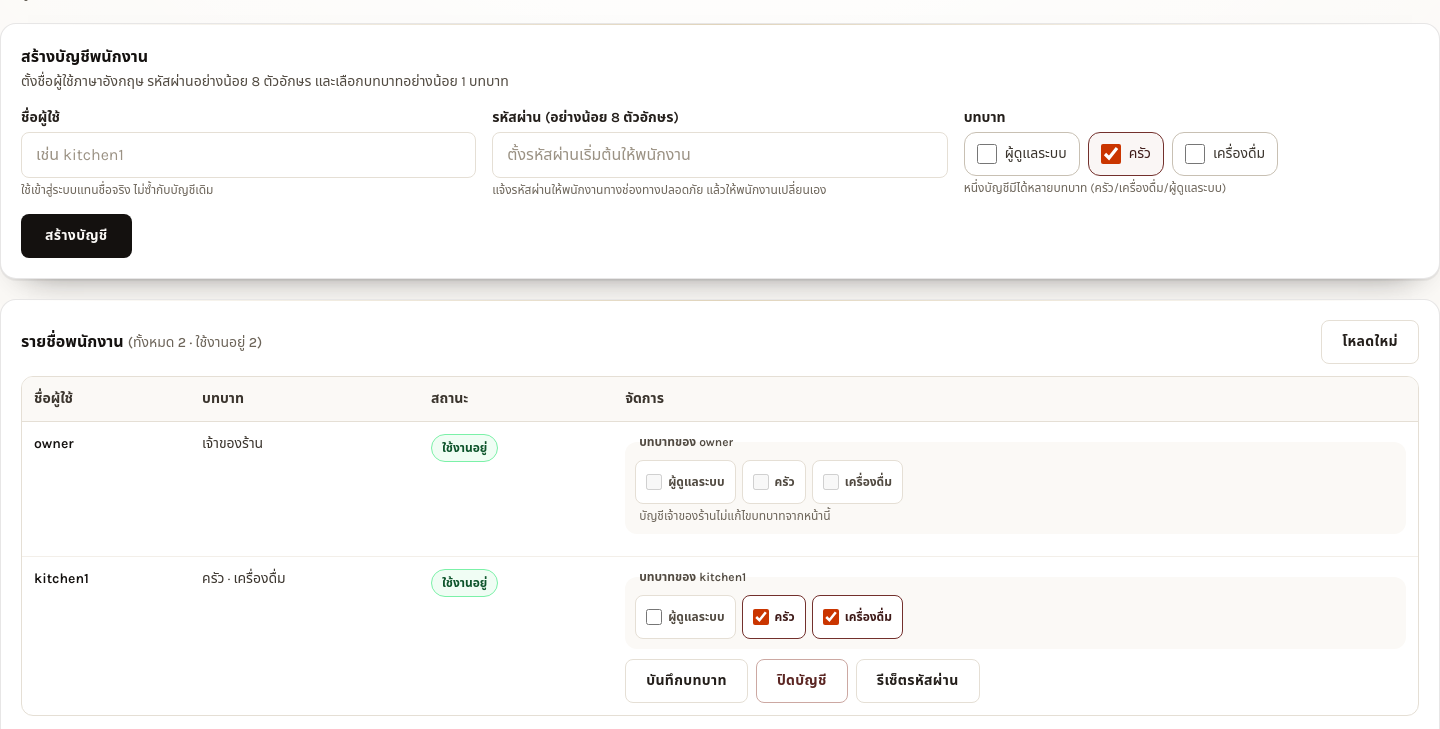
Test: หน้าจัดการพนักงาน › กดรีเซ็ตรหัสผ่านแล้วเห็นชื่อบัญชีเป้าหมายและคำเตือนเซสชัน
The image size is (1440, 729).
Click the button "รีเซ็ตรหัสผ่าน": (918, 681) 856,659 -> 980,703
(page scrolled)
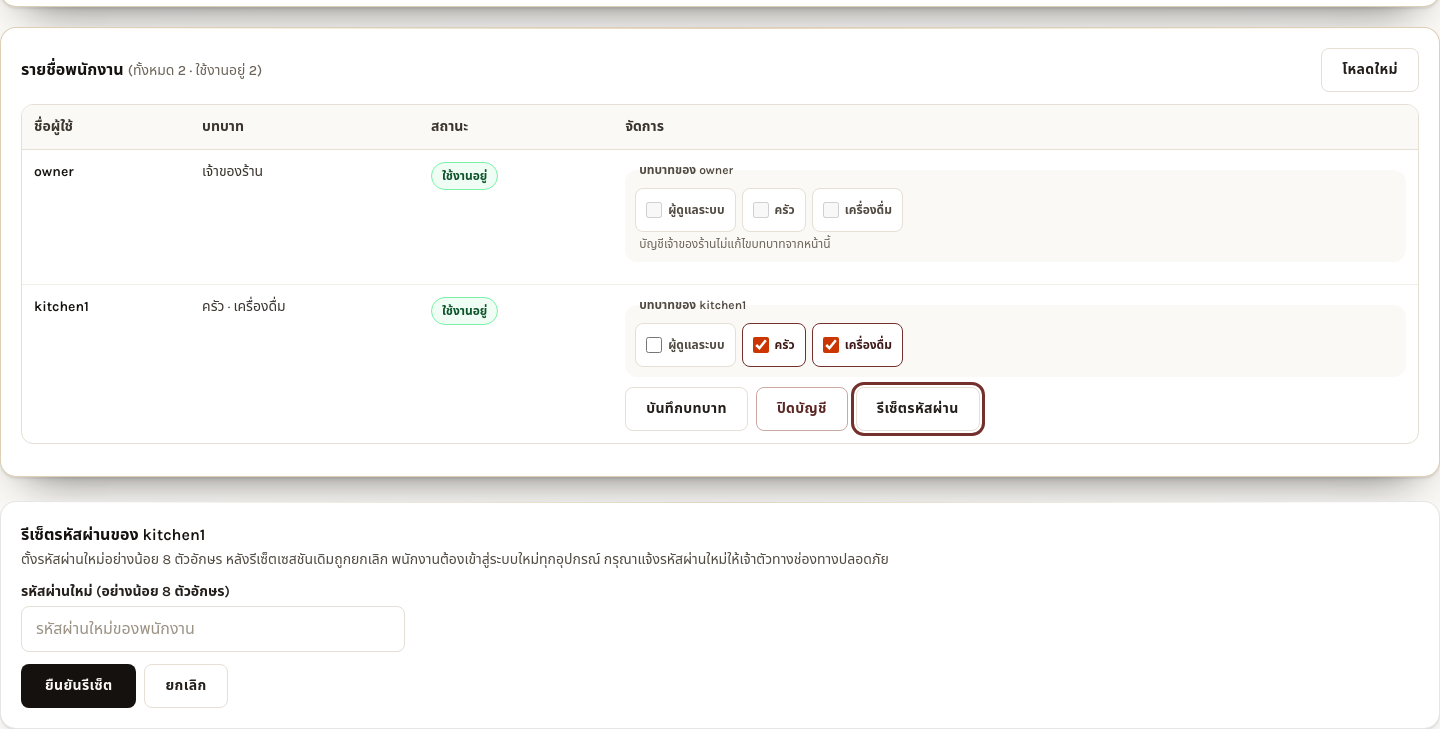
Now the form named "ฟอร์มรีเซ็ตรหัสผ่าน" shows "เซสชันเดิมถูกยกเลิก", box 21,551 -> 889,568
